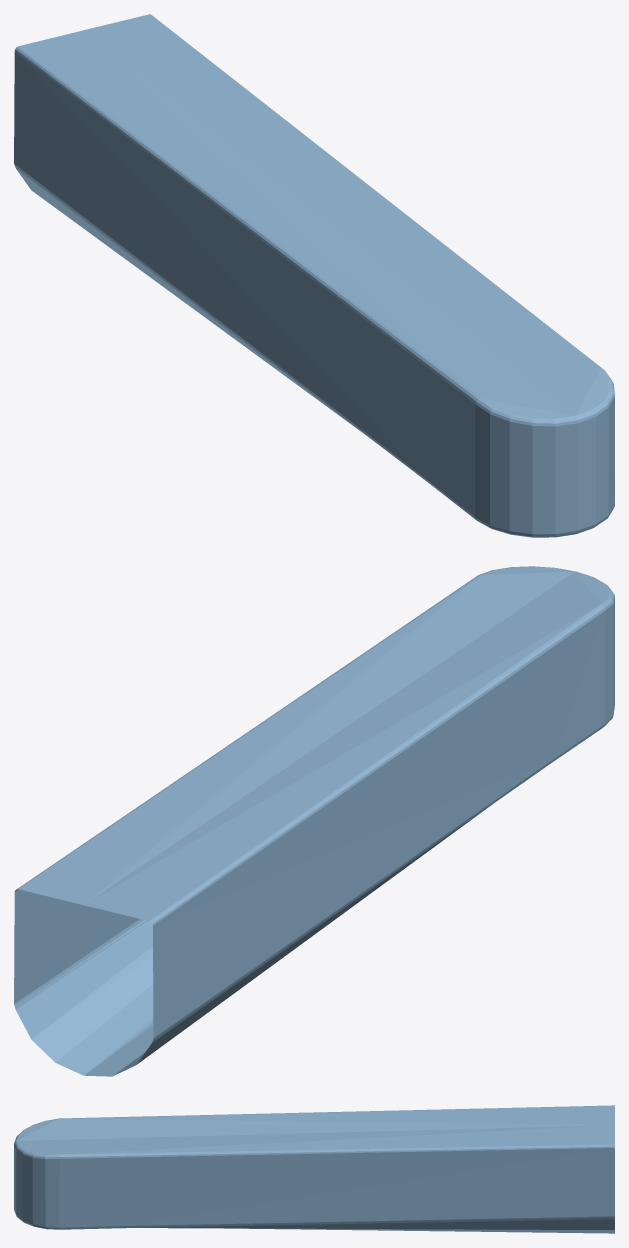
The model's file is original-1.obj.
3 renders of one model, top to bottom at view 1: azimuth 30°, elevation 25°; view 2: azimuth 150°, elevation 25°; view 3: azimuth 270°, elevation 25°, orthographic. The views are drawn at different scales.
Parts seen in each view (by area): view 1: mesh1/mesh1-geometry#mesh1-geometry; view 2: mesh1/mesh1-geometry#mesh1-geometry; view 3: mesh1/mesh1-geometry#mesh1-geometry.
Part boxes in pixels (<box>): mesh1/mesh1-geometry#mesh1-geometry: <box>14,14,614,537</box>; mesh1/mesh1-geometry#mesh1-geometry: <box>14,566,614,1076</box>; mesh1/mesh1-geometry#mesh1-geometry: <box>14,1105,614,1233</box>.
Bounding box in the file's own units: 0.2078 × 0.2426 × 1.27.
